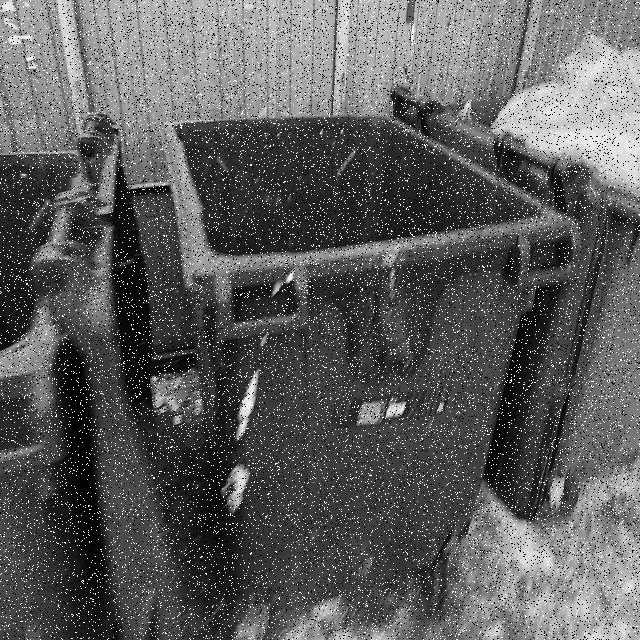Trashcan: (152, 97, 589, 625), (0, 68, 155, 640)
